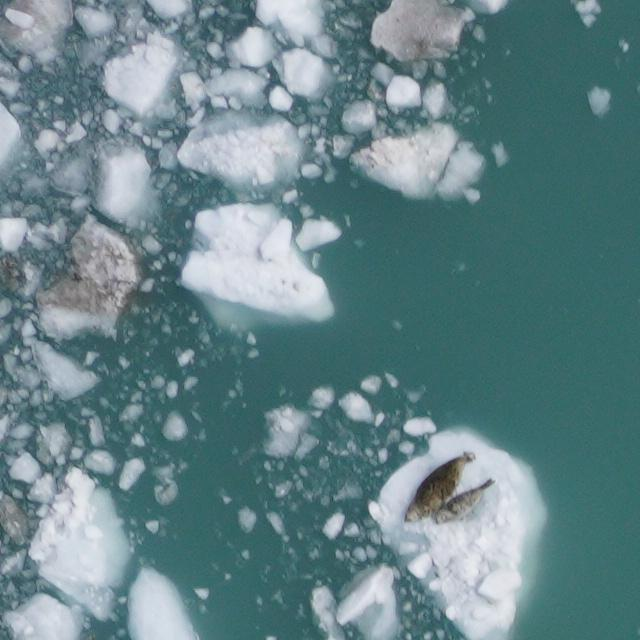seal: (392, 445, 483, 533), (428, 464, 499, 537)
